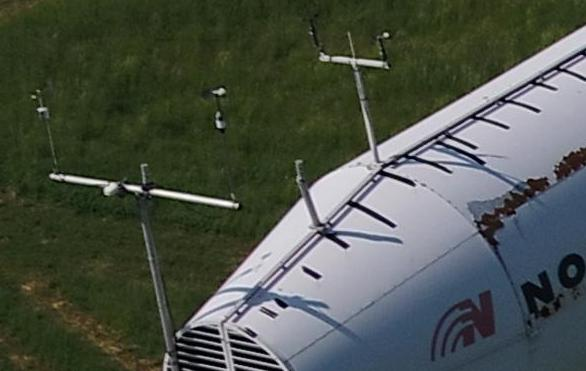damage: (473, 176, 549, 246), (554, 147, 585, 181), (535, 305, 551, 321), (554, 293, 565, 313), (573, 287, 581, 301)
